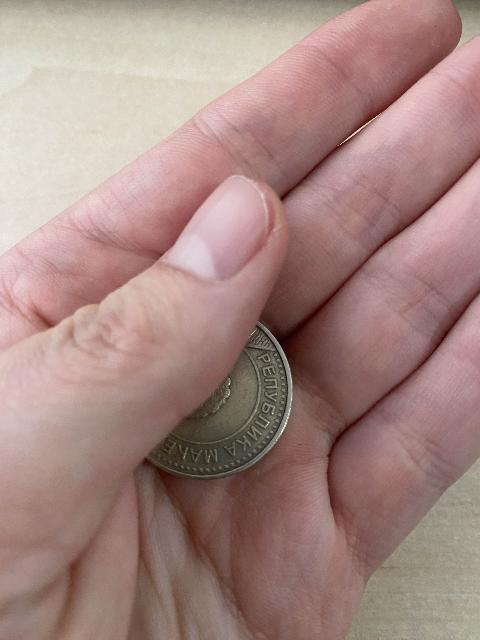coin: (148, 323, 292, 478)
